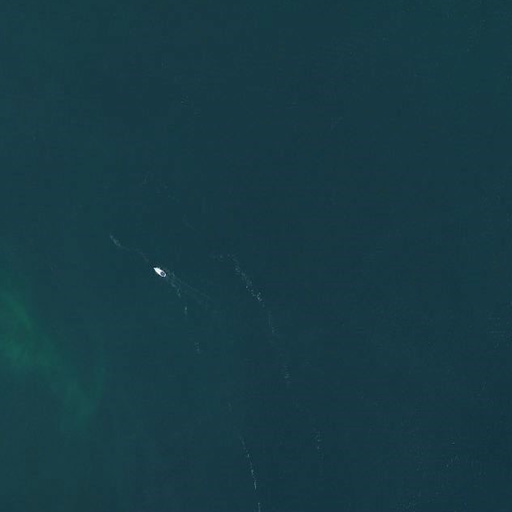ship: (150, 265, 168, 279)
